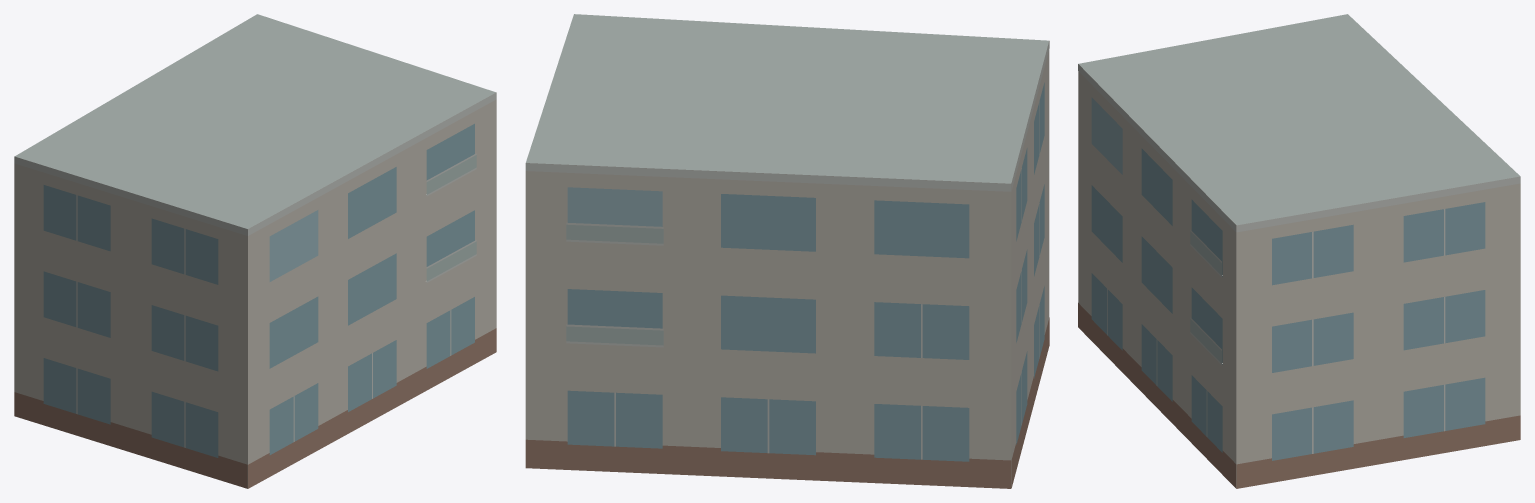
The model's file is survey-upis-32987375.glb.
3 views of the same model, side by side, from view 1: azimuth 30°, elevation 25°; view 2: azimuth 150°, elevation 25°; view 3: azimuth 270°, elevation 25° (orthographic). The views are drawn at different scales.
Visible parts, largest first — view 1: survey-upis-32987375.tmp; view 2: survey-upis-32987375.tmp; view 3: survey-upis-32987375.tmp.
Part boxes in pixels (box(x1,y1,x2,y2)): survey-upis-32987375.tmp: box(14, 14, 496, 488); survey-upis-32987375.tmp: box(525, 14, 1049, 488); survey-upis-32987375.tmp: box(1078, 14, 1520, 488).
Bounding box in the file's own units: 15.76 × 9.15 × 13.94.
